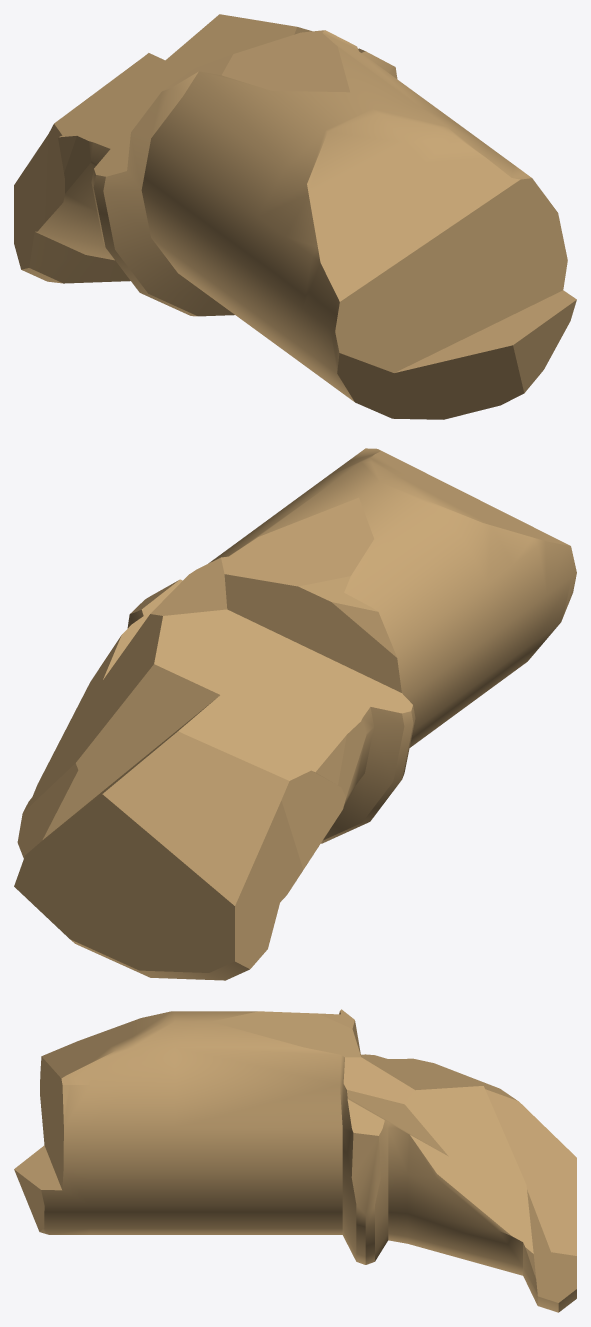
File: BrokenRuin_pillarTop_03.fbx
3 renders of one model, top to bottom at view 1: azimuth 30°, elevation 25°; view 2: azimuth 150°, elevation 25°; view 3: azimuth 270°, elevation 25°, orthographic. The views are drawn at different scales.
Parts seen in each view (by area): view 1: pillarTop_03; view 2: pillarTop_03; view 3: pillarTop_03.
Boxes of the visible parts, bbox=[...] form: pillarTop_03: bbox=[14, 14, 576, 419]; pillarTop_03: bbox=[14, 448, 576, 980]; pillarTop_03: bbox=[14, 1009, 576, 1312].
Size of the model in its own units: 157 by 167 by 311.
